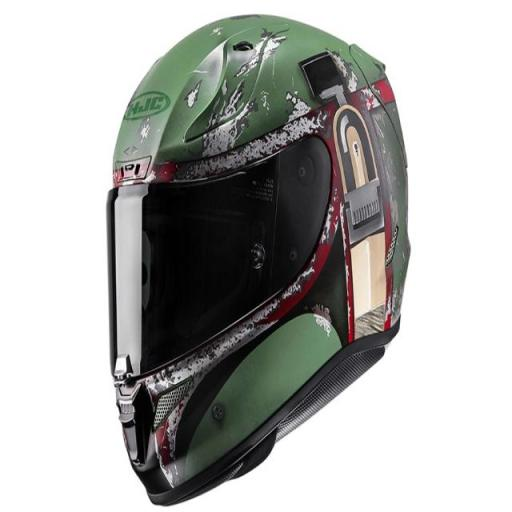Helmet: (99, 28, 437, 496)
